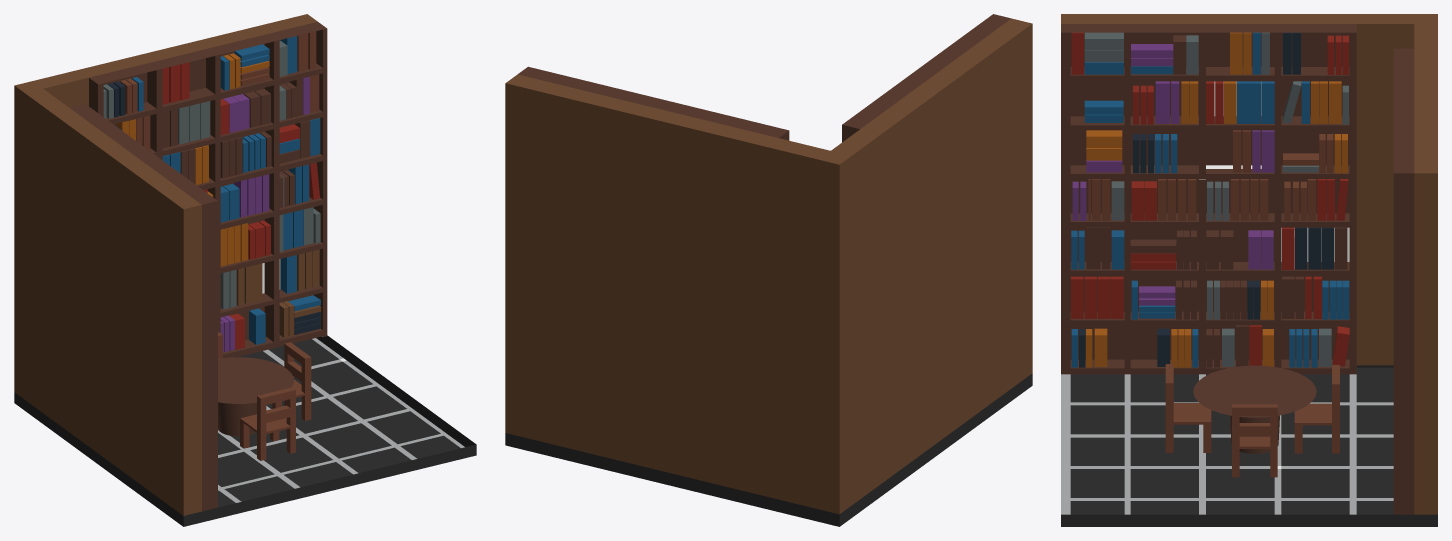
File: backup.glb
The picture shows the model from 3 angles, left to right: view 1: azimuth 30°, elevation 25°; view 2: azimuth 150°, elevation 25°; view 3: azimuth 270°, elevation 25°; orthographic projection. The views are drawn at different scales.
Visible parts, largest first — view 1: Cube.008; view 2: Cube.008; view 3: Cube.008 (×2).
Boxes of the visible parts, x1,y1,x2,y2 form: Cube.008: [14, 14, 476, 526]; Cube.008: [505, 14, 1032, 526]; Cube.008 (×2): [1061, 14, 1437, 526].
Size of the model in its own units: 2.28 by 2.36 by 2.28.
2 materials, 1 textured.
